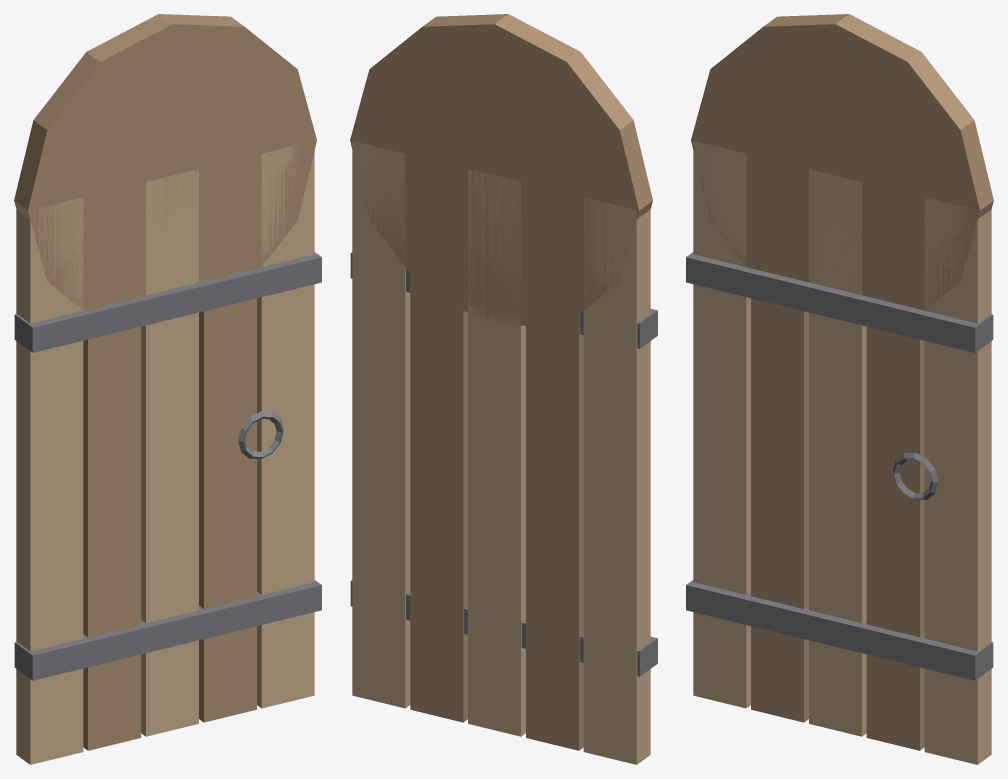
The model's file is door_arched.glb.
3 views of the same model, side by side, from view 1: azimuth 30°, elevation 25°; view 2: azimuth 150°, elevation 25°; view 3: azimuth 330°, elevation 25° (orthographic).
Parts seen in each view (by area): view 1: door_arched; view 2: door_arched; view 3: door_arched.
Boxes of the visible parts, <box> form: door_arched: <box>14,14,321,764</box>; door_arched: <box>350,14,657,764</box>; door_arched: <box>686,14,993,764</box>.
Size of the model in its own units: 1.2 by 2.8 by 0.1449.
